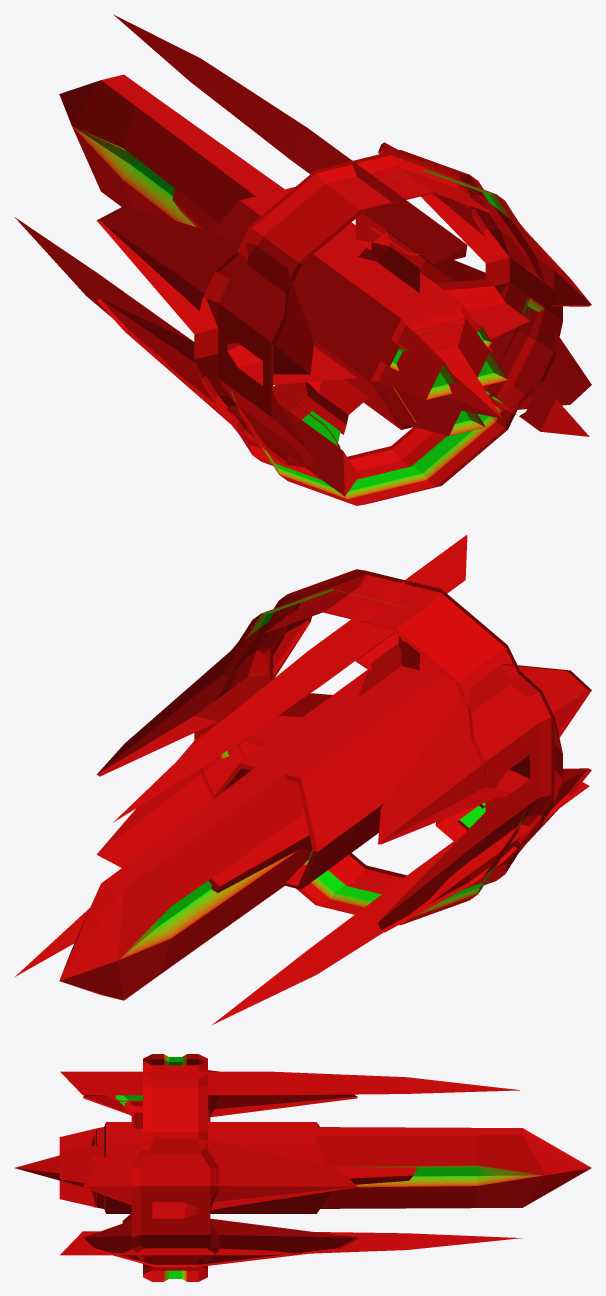
File: axum-light-craft.glb
3 renders of one model, top to bottom at view 1: azimuth 30°, elevation 25°; view 2: azimuth 150°, elevation 25°; view 3: azimuth 270°, elevation 25°, orthographic. The views are drawn at different scales.
Parts seen in each view (by area): view 1: appendage_1-sharps, appendage_2-donut, core_3-dagger, appendage_3-spikes, engine_2-tri, core_2-barrel, engine_3-slots, engine_1-spike, core_1-steak; view 2: appendage_1-sharps, core_3-dagger, appendage_2-donut, appendage_3-spikes, core_2-barrel, core_1-steak; view 3: appendage_1-sharps, core_3-dagger, appendage_2-donut, appendage_3-spikes, core_2-barrel, engine_2-tri, core_1-steak, engine_3-slots, engine_1-spike.
Part boxes in pixels (x1=…): appendage_1-sharps: x1=96, y1=142, x2=591, y2=467; appendage_2-donut: x1=194, y1=150, x2=562, y2=505; core_3-dagger: x1=59, y1=74, x2=444, y2=416; appendage_3-spikes: x1=14, y1=14, x2=589, y2=496; engine_2-tri: x1=378, y1=311, x2=508, y2=435; core_2-barrel: x1=213, y1=187, x2=441, y2=414; engine_3-slots: x1=353, y1=290, x2=493, y2=431; engine_1-spike: x1=391, y1=321, x2=502, y2=423; core_1-steak: x1=172, y1=188, x2=439, y2=412; appendage_1-sharps: x1=96, y1=609, x2=591, y2=932; core_3-dagger: x1=59, y1=666, x2=458, y2=1000; appendage_2-donut: x1=194, y1=569, x2=562, y2=925; appendage_3-spikes: x1=14, y1=535, x2=589, y2=1024; core_2-barrel: x1=211, y1=666, x2=456, y2=889; core_1-steak: x1=208, y1=666, x2=458, y2=892; appendage_1-sharps: x1=83, y1=1070, x2=357, y2=1267; core_3-dagger: x1=129, y1=1122, x2=591, y2=1213; appendage_2-donut: x1=131, y1=1054, x2=219, y2=1281; appendage_3-spikes: x1=60, y1=1071, x2=521, y2=1255; core_2-barrel: x1=129, y1=1122, x2=332, y2=1213; engine_2-tri: x1=59, y1=1127, x2=104, y2=1208; core_1-steak: x1=128, y1=1122, x2=417, y2=1213; engine_3-slots: x1=92, y1=1122, x2=129, y2=1213; engine_1-spike: x1=15, y1=1131, x2=95, y2=1204.
Size of what is drawn, in the model's own units: 10.26 by 9.66 by 24.98.
